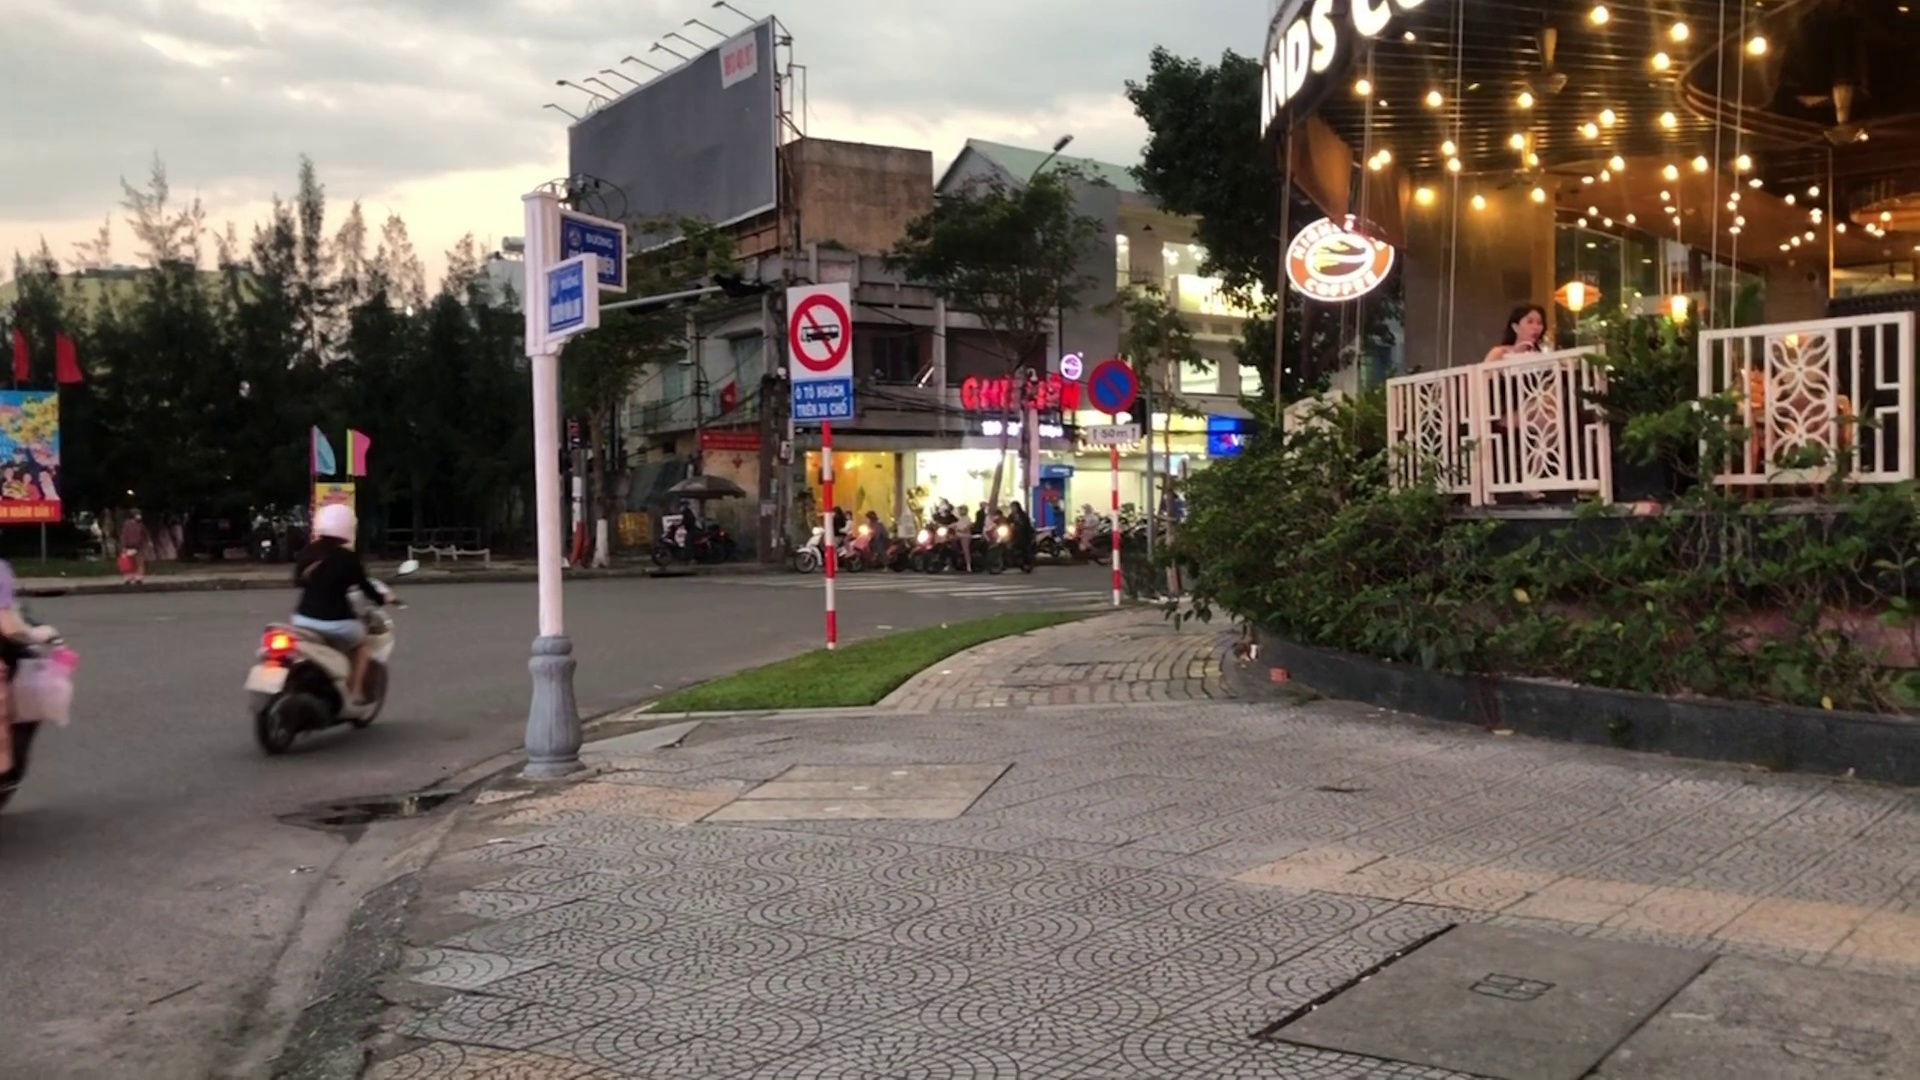Bien khac: (782, 278, 855, 423)
Cam do xe: (1087, 355, 1138, 414)
